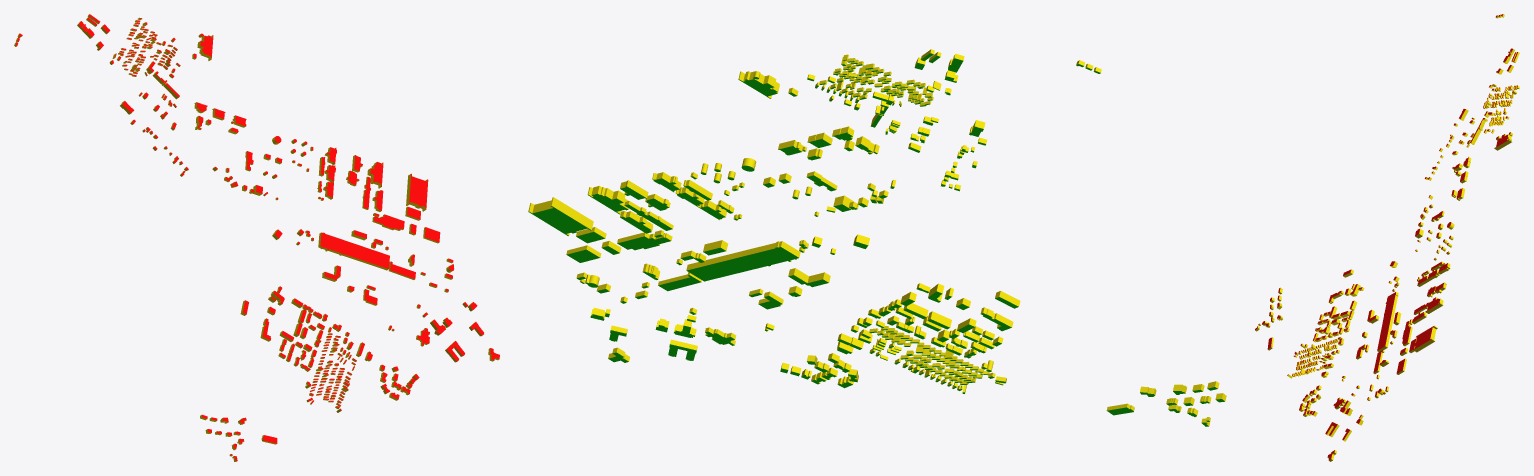
3 renders of one model, left to right at view 1: azimuth 30°, elevation 25°; view 2: azimuth 150°, elevation 25°; view 3: azimuth 270°, elevation 25°, orthographic. The views are drawn at different scales.
Parts seen in each view (by area): view 1: mesh; view 2: mesh; view 3: mesh.
Part boxes in pixels (x1,y1,x2,y2): mesh: (14, 14, 499, 461); mesh: (528, 49, 1226, 426); mesh: (1255, 14, 1519, 461).
Bounding box in the file's own units: 1815 × 1539 × 1264.
